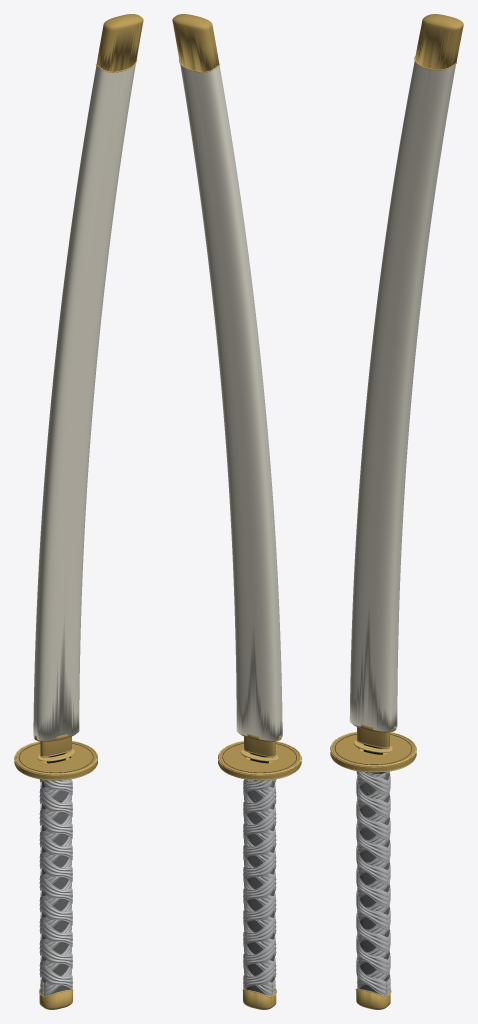
Rendered from wado.glb.
3 views of the same model, side by side, from view 1: azimuth 30°, elevation 25°; view 2: azimuth 150°, elevation 25°; view 3: azimuth 330°, elevation 25° (orthographic). The views are drawn at different scales.
Parts seen in each view (by area): view 1: Wado_Ichimonji.Saya_shell, Wado_Ichimonji.Tsukamaki_-1, Wado_Ichimonji.Kojiri, Wado_Ichimonji.Tsukamaki_-1.001, Wado_Ichimonji.Tsuba, Wado_Ichimonji.Samegawa, Wado_Ichimonji.Tsukamaki_1.001, Wado_Ichimonji.Tsukamaki_1, Wado_Ichimonji.Kashira, Wado_Ichimonji.Habaki; view 2: Wado_Ichimonji.Saya_shell, Wado_Ichimonji.Tsukamaki_1, Wado_Ichimonji.Kojiri, Wado_Ichimonji.Tsukamaki_1.001, Wado_Ichimonji.Tsuba, Wado_Ichimonji.Samegawa, Wado_Ichimonji.Tsukamaki_-1.001, Wado_Ichimonji.Tsukamaki_-1, Wado_Ichimonji.Kashira, Wado_Ichimonji.Habaki; view 3: Wado_Ichimonji.Saya_shell, Wado_Ichimonji.Tsukamaki_-1, Wado_Ichimonji.Tsukamaki_-1.001, Wado_Ichimonji.Kojiri, Wado_Ichimonji.Tsuba, Wado_Ichimonji.Samegawa, Wado_Ichimonji.Tsukamaki_1.001, Wado_Ichimonji.Tsukamaki_1, Wado_Ichimonji.Kashira, Wado_Ichimonji.Habaki.
Boxes of the visible parts, <box> form: Wado_Ichimonji.Saya_shell: <box>33,64,135,740</box>; Wado_Ichimonji.Tsukamaki_-1: <box>40,781,72,989</box>; Wado_Ichimonji.Kojiri: <box>96,14,143,71</box>; Wado_Ichimonji.Tsukamaki_-1.001: <box>40,780,72,994</box>; Wado_Ichimonji.Tsuba: <box>14,742,97,779</box>; Wado_Ichimonji.Samegawa: <box>42,780,70,994</box>; Wado_Ichimonji.Tsukamaki_1.001: <box>39,779,71,995</box>; Wado_Ichimonji.Tsukamaki_1: <box>39,779,71,977</box>; Wado_Ichimonji.Kashira: <box>39,990,72,1009</box>; Wado_Ichimonji.Habaki: <box>40,736,71,757</box>; Wado_Ichimonji.Saya_shell: <box>180,64,282,740</box>; Wado_Ichimonji.Tsukamaki_1: <box>243,781,275,989</box>; Wado_Ichimonji.Kojiri: <box>172,14,219,71</box>; Wado_Ichimonji.Tsukamaki_1.001: <box>243,780,275,994</box>; Wado_Ichimonji.Tsuba: <box>218,742,301,779</box>; Wado_Ichimonji.Samegawa: <box>245,780,273,994</box>; Wado_Ichimonji.Tsukamaki_-1.001: <box>244,779,276,995</box>; Wado_Ichimonji.Tsukamaki_-1: <box>244,779,276,977</box>; Wado_Ichimonji.Kashira: <box>243,989,276,1009</box>; Wado_Ichimonji.Habaki: <box>244,736,275,757</box>; Wado_Ichimonji.Saya_shell: <box>349,61,455,731</box>; Wado_Ichimonji.Tsukamaki_-1: <box>356,771,389,995</box>; Wado_Ichimonji.Tsukamaki_-1.001: <box>356,771,389,976</box>; Wado_Ichimonji.Kojiri: <box>415,14,463,69</box>; Wado_Ichimonji.Tsuba: <box>330,733,416,771</box>; Wado_Ichimonji.Samegawa: <box>359,772,388,993</box>; Wado_Ichimonji.Tsukamaki_1.001: <box>357,772,390,988</box>; Wado_Ichimonji.Tsukamaki_1: <box>357,772,390,993</box>; Wado_Ichimonji.Kashira: <box>356,990,390,1009</box>; Wado_Ichimonji.Habaki: <box>357,727,389,748</box>.
Bounding box in the file's own units: 0.6544 × 4.99 × 0.3824.
9 materials, 3 textured.
